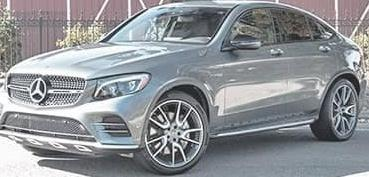Cars: (1, 2, 366, 175)
